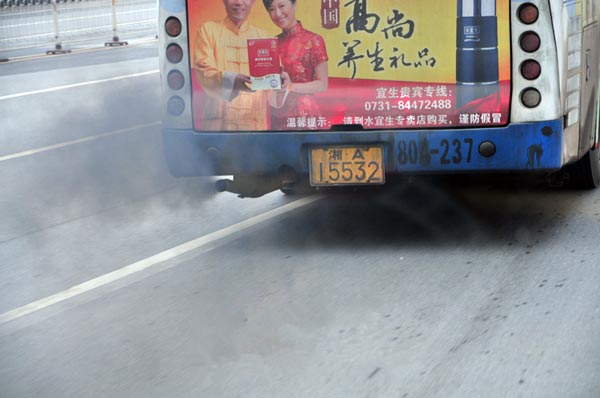smoke: (31, 103, 217, 246)
